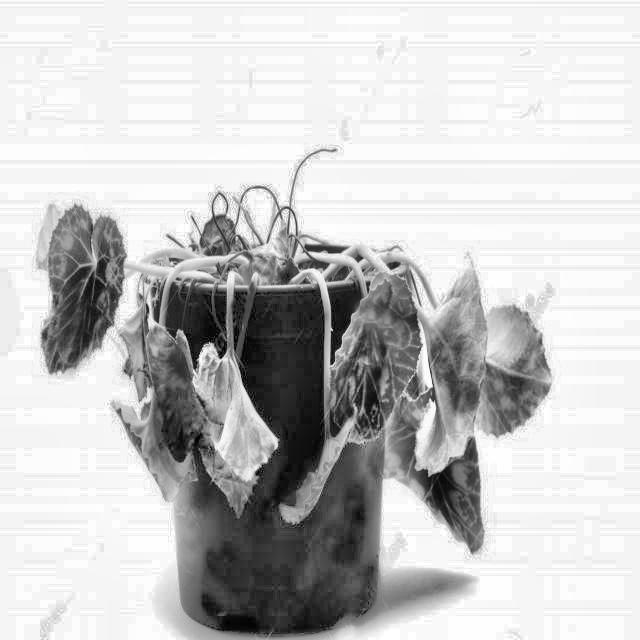plants: (29, 162, 556, 639)
